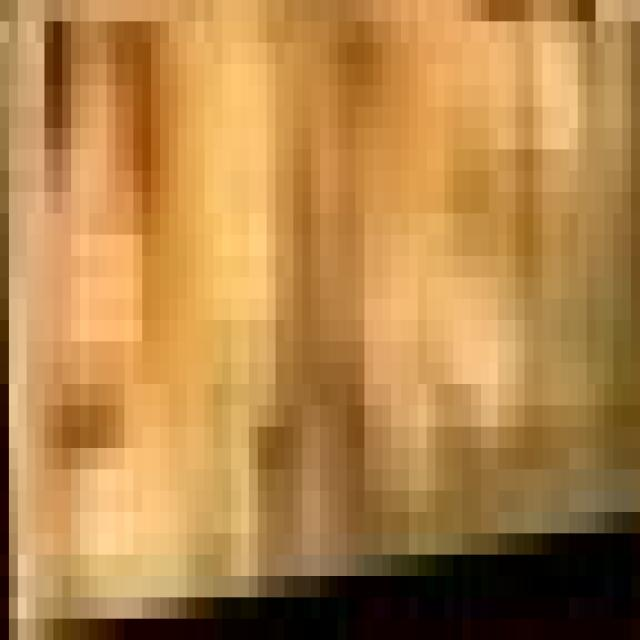fire: (0, 21, 640, 640)
